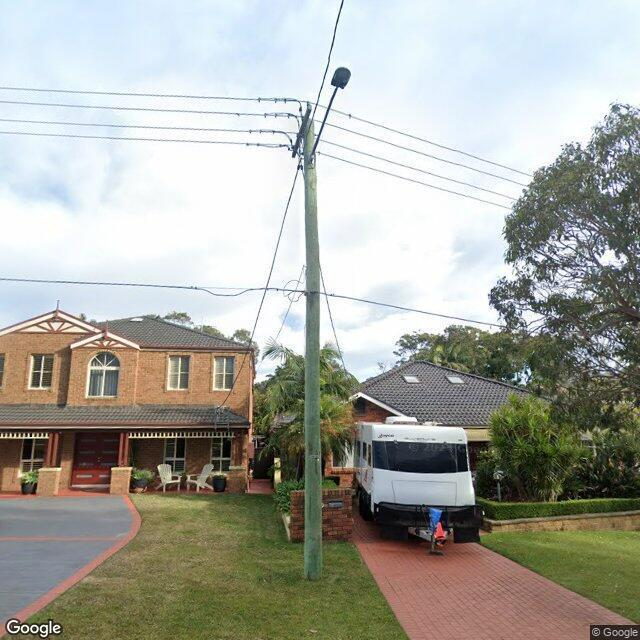crossarm: (291, 107, 311, 159)
streetlight: (307, 66, 352, 163)
timber-pole: (302, 117, 324, 582)
